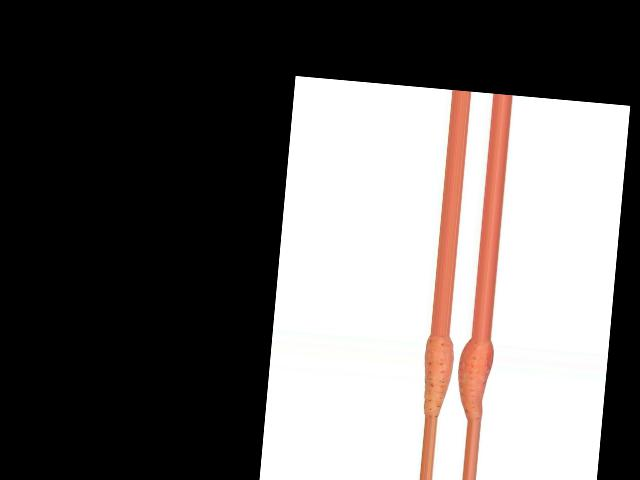sweet_potato: (420, 333, 456, 416)
